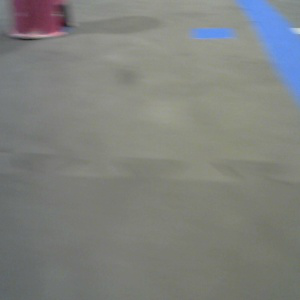middle: (9, 1, 76, 39)
